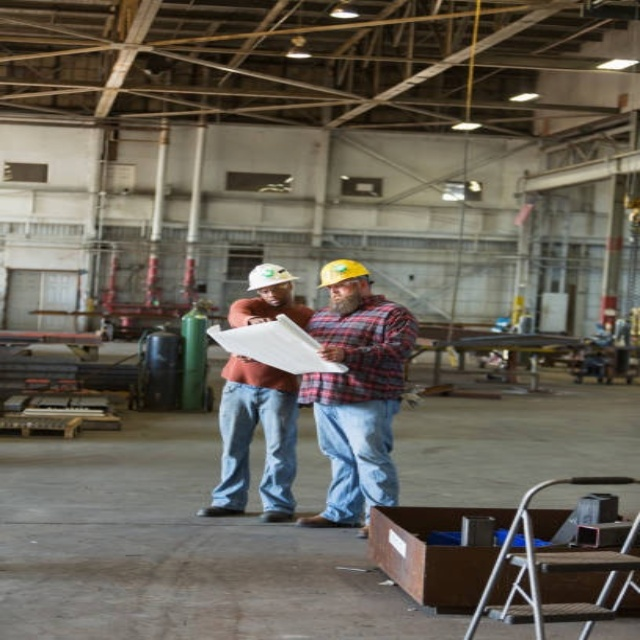Gafas: (322, 280, 361, 294), (256, 284, 290, 295)
Sin_guantes: (317, 345, 347, 363), (246, 315, 272, 326), (236, 355, 254, 363)
